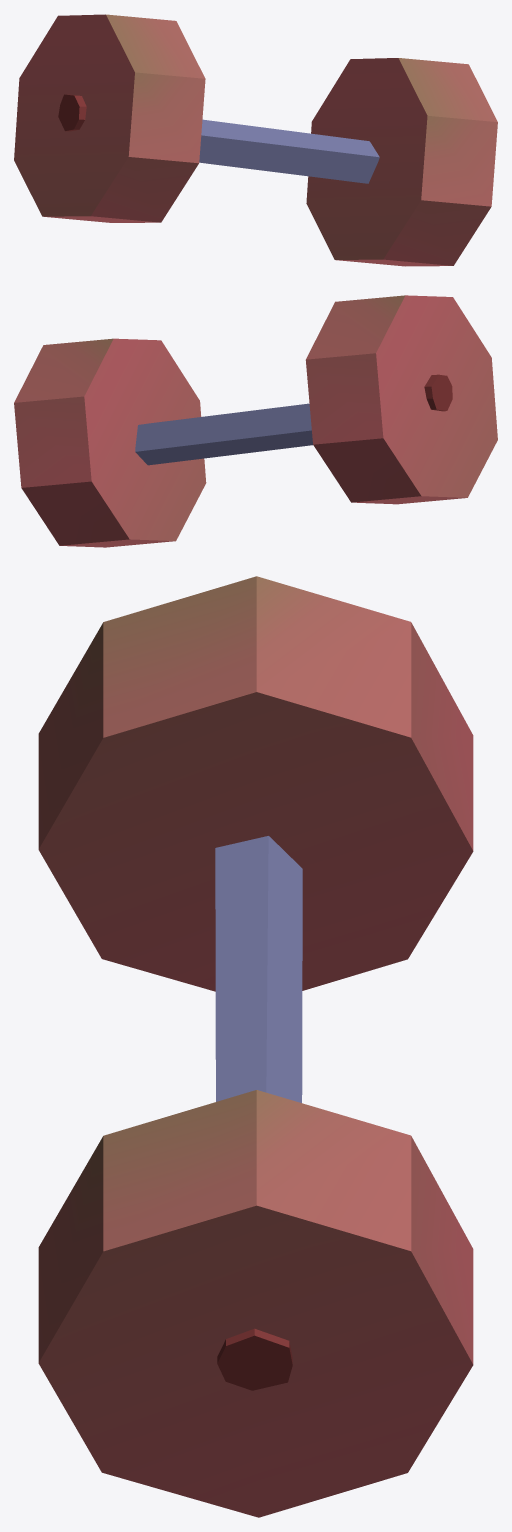
Rendered from Gym_Dumbells.fbx.
3 views of the same model, one above another, from view 1: azimuth 30°, elevation 25°; view 2: azimuth 150°, elevation 25°; view 3: azimuth 270°, elevation 25° (orthographic). The views are drawn at different scales.
Parts seen in each view (by area): view 1: Gym_Dumbells; view 2: Gym_Dumbells; view 3: Gym_Dumbells.
Boxes of the visible parts, left/top/right/bottom form: Gym_Dumbells: left=14, top=14, right=497, bottom=266; Gym_Dumbells: left=14, top=295, right=497, bottom=547; Gym_Dumbells: left=38, top=576, right=473, bottom=1517.
Size of the model in its own units: 52.72 by 38.5 by 23.36.
